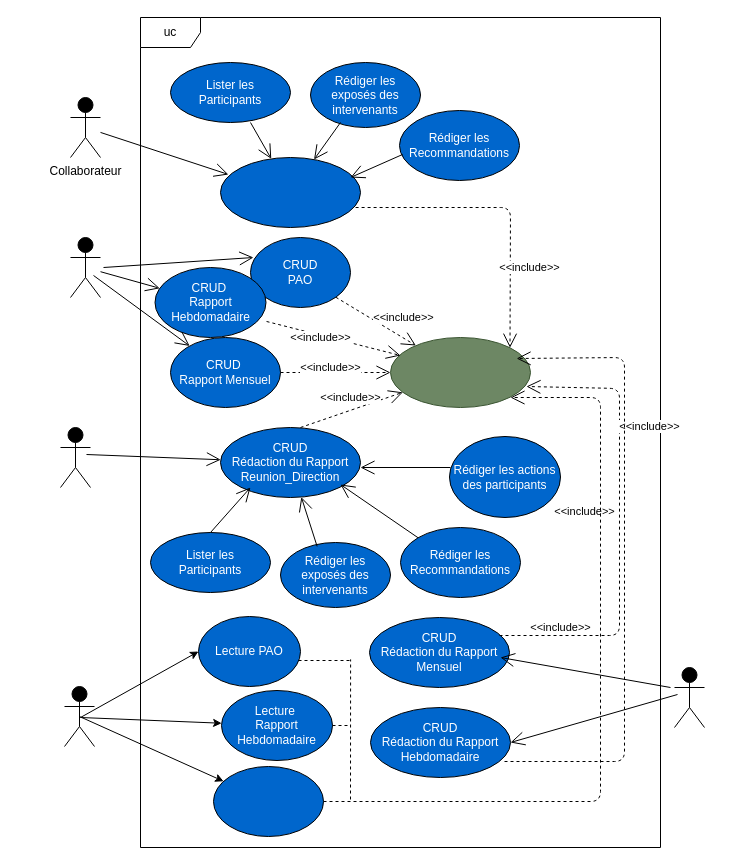
The diagram is 733 pixels wide and 865 high, and some of its shapes have lost their labels. Here are the shapes that lost their labels. From the top down, the centre of each, then its label:
At [290,192]: "CRUD Rédaction du Rapport Reunion_Departement".
At [85,267]: "Manager".
At [460,372]: "Authentification".
At [75,457]: "Assistante DG & DGA".
At [79,716]: "DG & DGA".
At [689,697]: "Utilisateur".
At [268,801]: "Lecture Rapport Mensuel".
